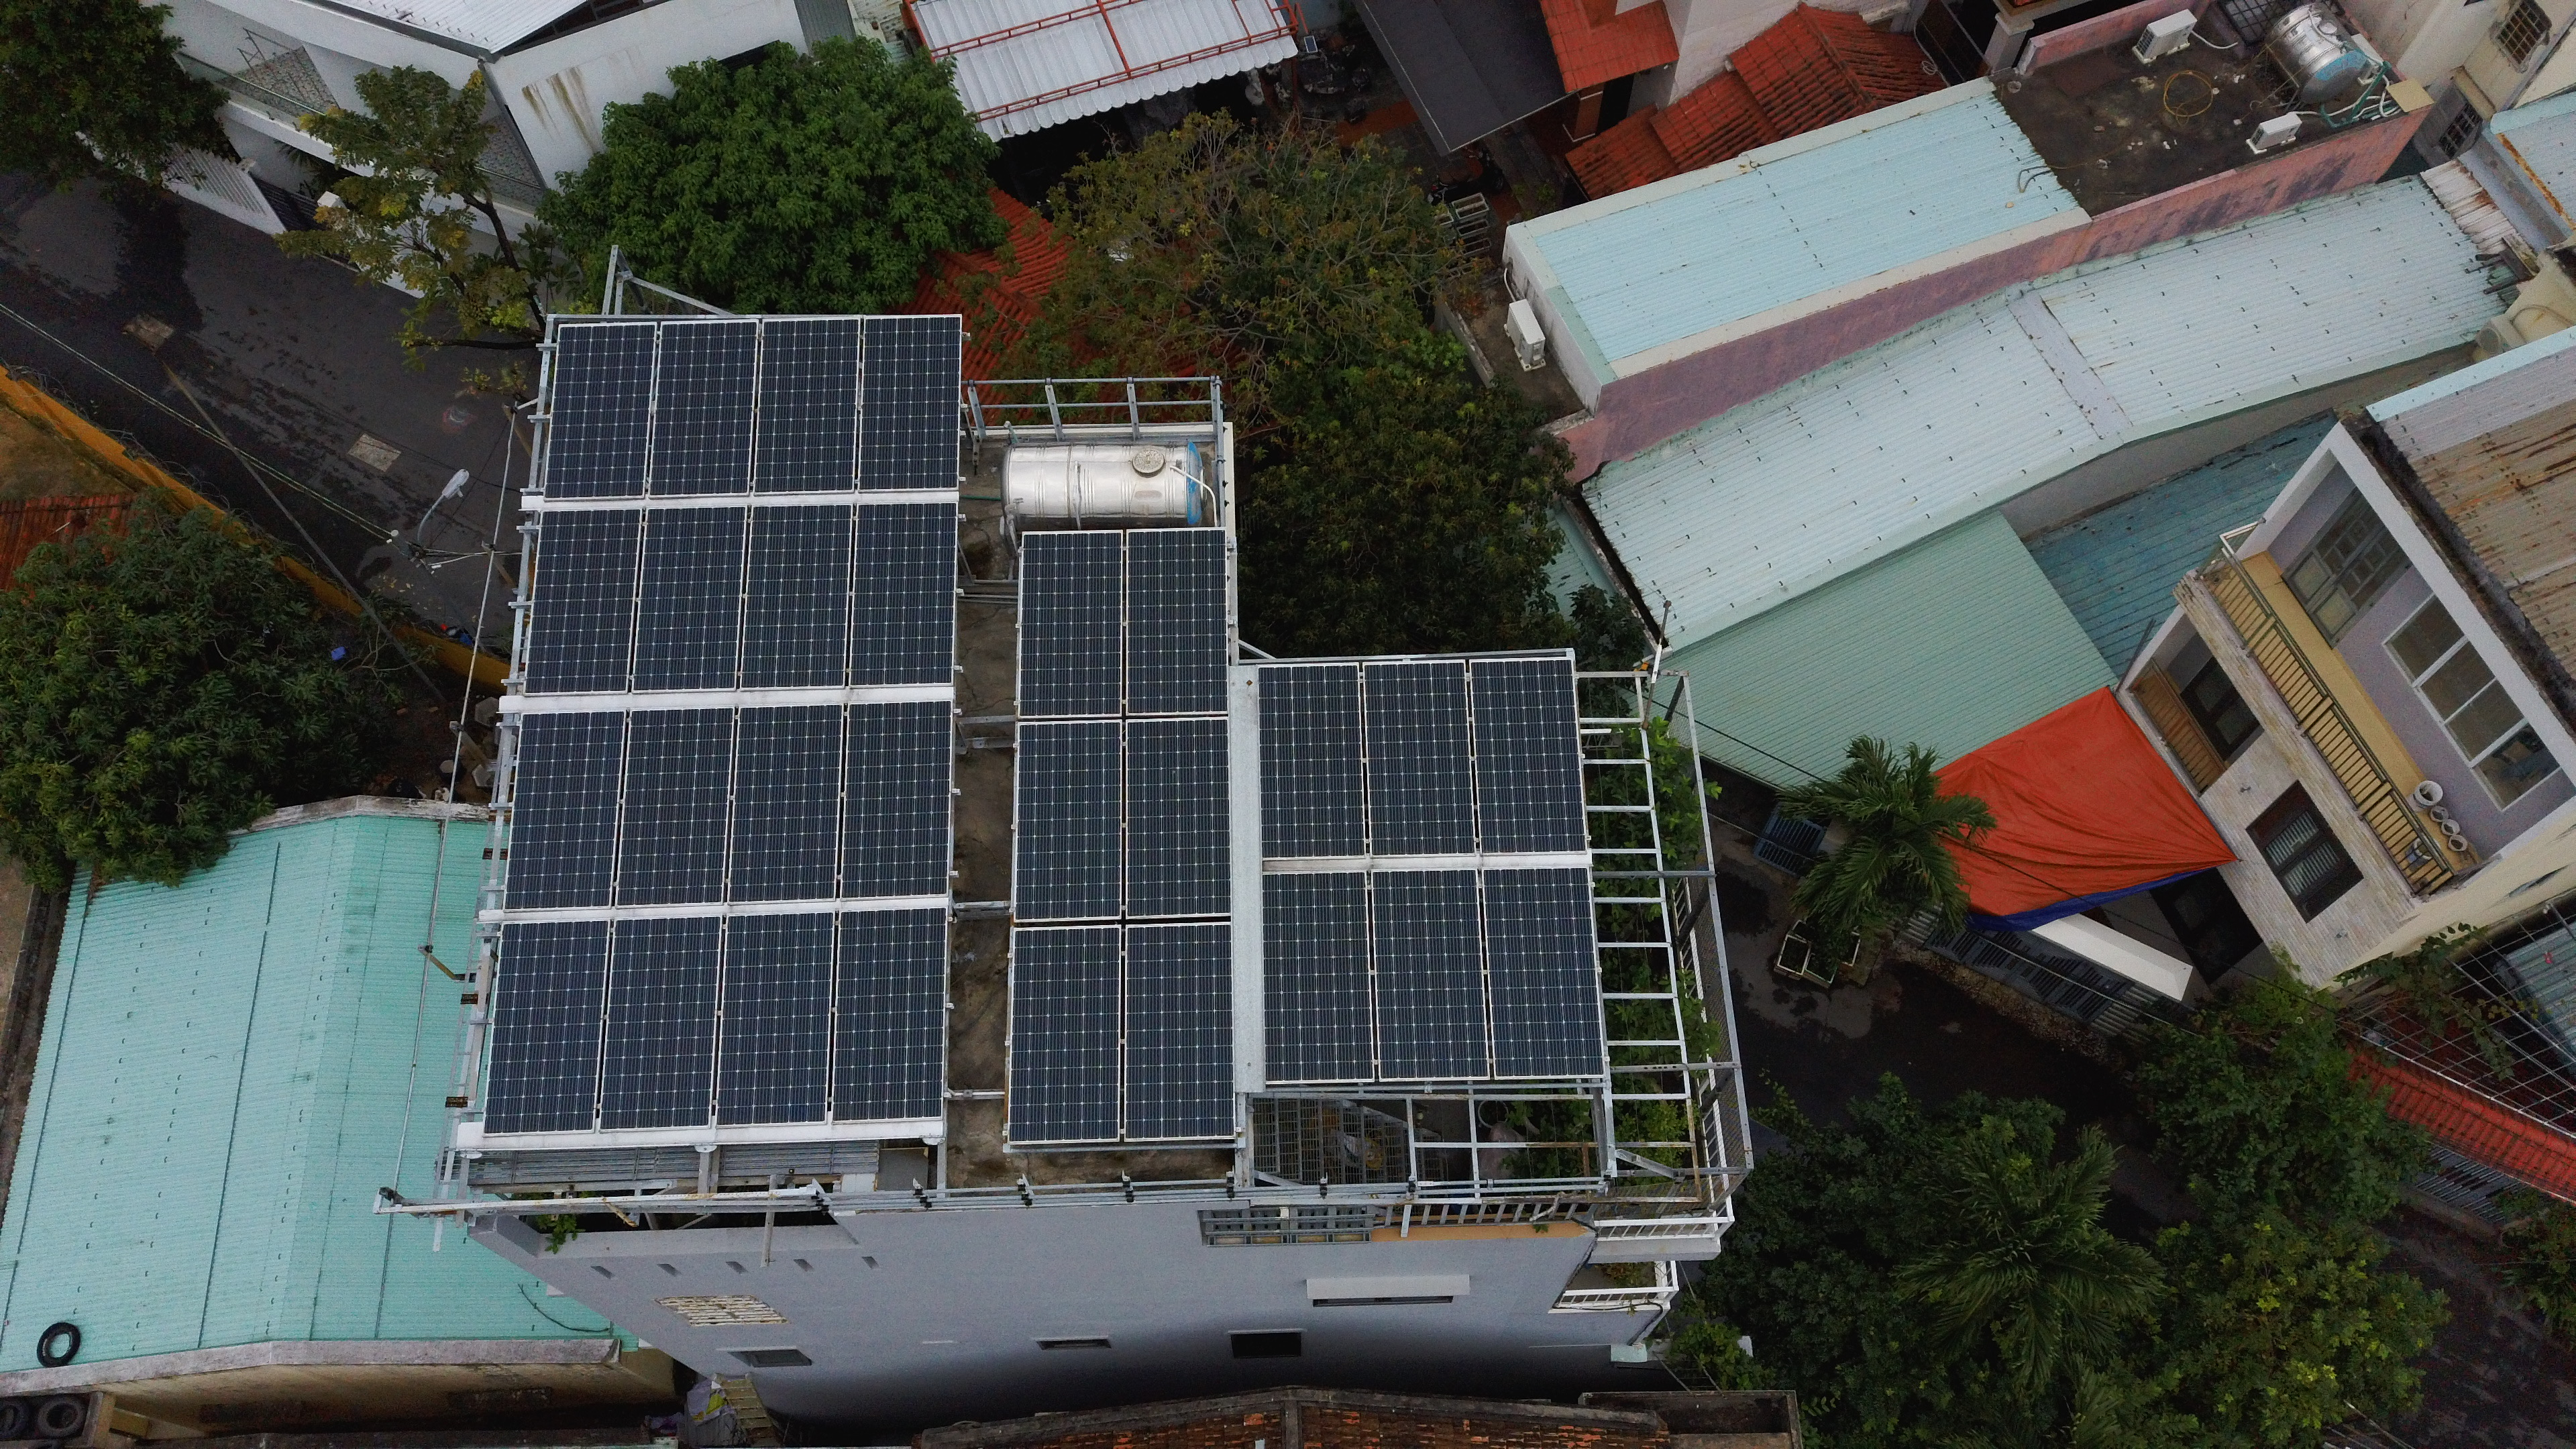solar: (704, 899, 847, 1138), (584, 904, 727, 1143), (596, 685, 740, 924), (488, 688, 632, 927), (715, 472, 858, 711), (617, 476, 761, 715), (506, 476, 649, 715), (708, 678, 849, 916), (479, 908, 621, 1145), (1474, 862, 1612, 1088), (1361, 863, 1499, 1090), (1254, 865, 1391, 1092), (998, 699, 1132, 927), (1111, 918, 1244, 1146), (994, 924, 1127, 1152), (527, 304, 667, 515), (729, 310, 874, 511), (1244, 655, 1382, 865), (1000, 515, 1136, 727), (828, 897, 952, 1129), (1461, 653, 1598, 862), (1348, 655, 1484, 863), (633, 306, 766, 515), (1113, 711, 1244, 922), (1108, 518, 1237, 725), (840, 490, 964, 697), (833, 699, 957, 904), (847, 310, 971, 506)
